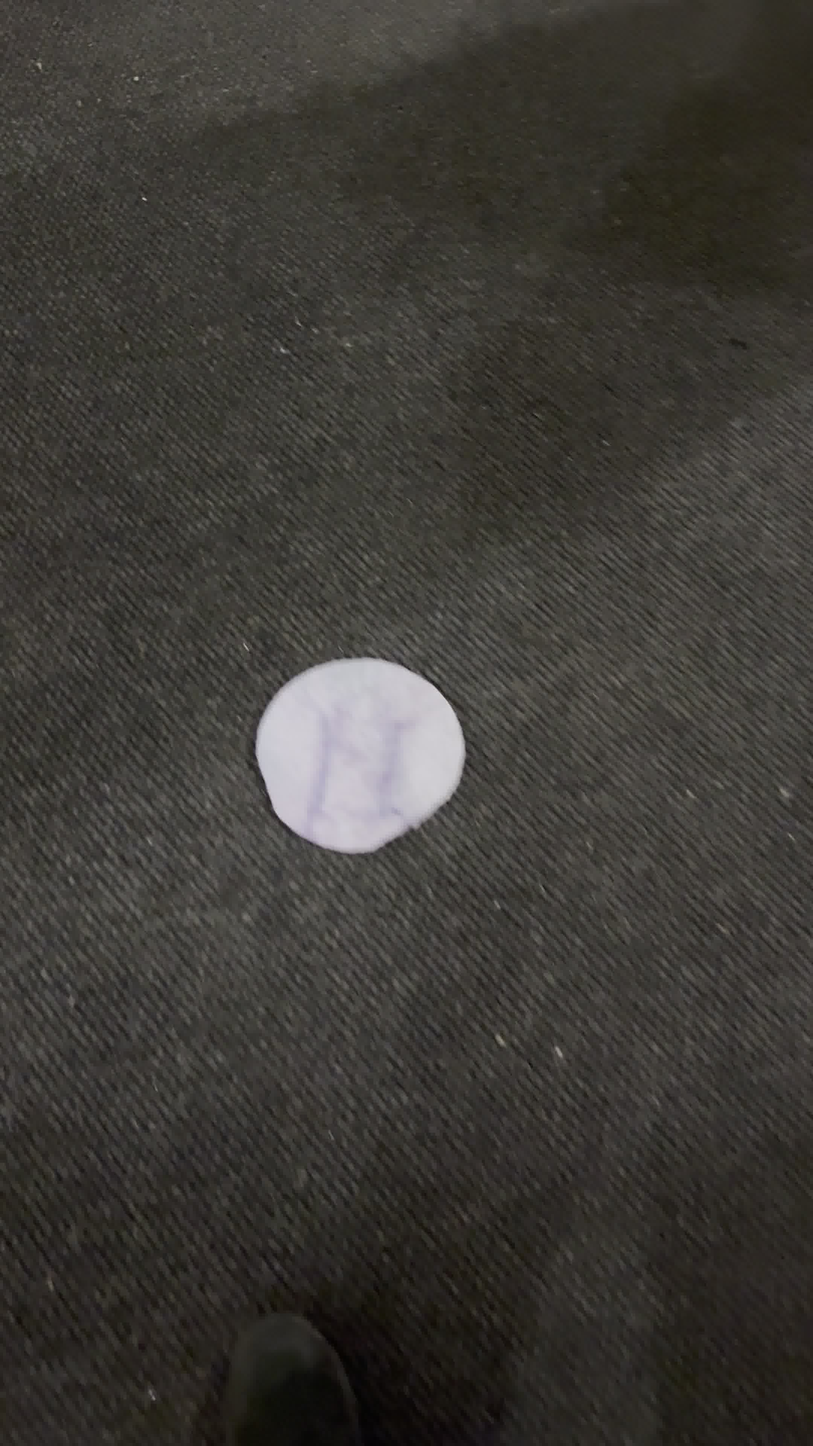Target: (251, 653, 470, 855)
